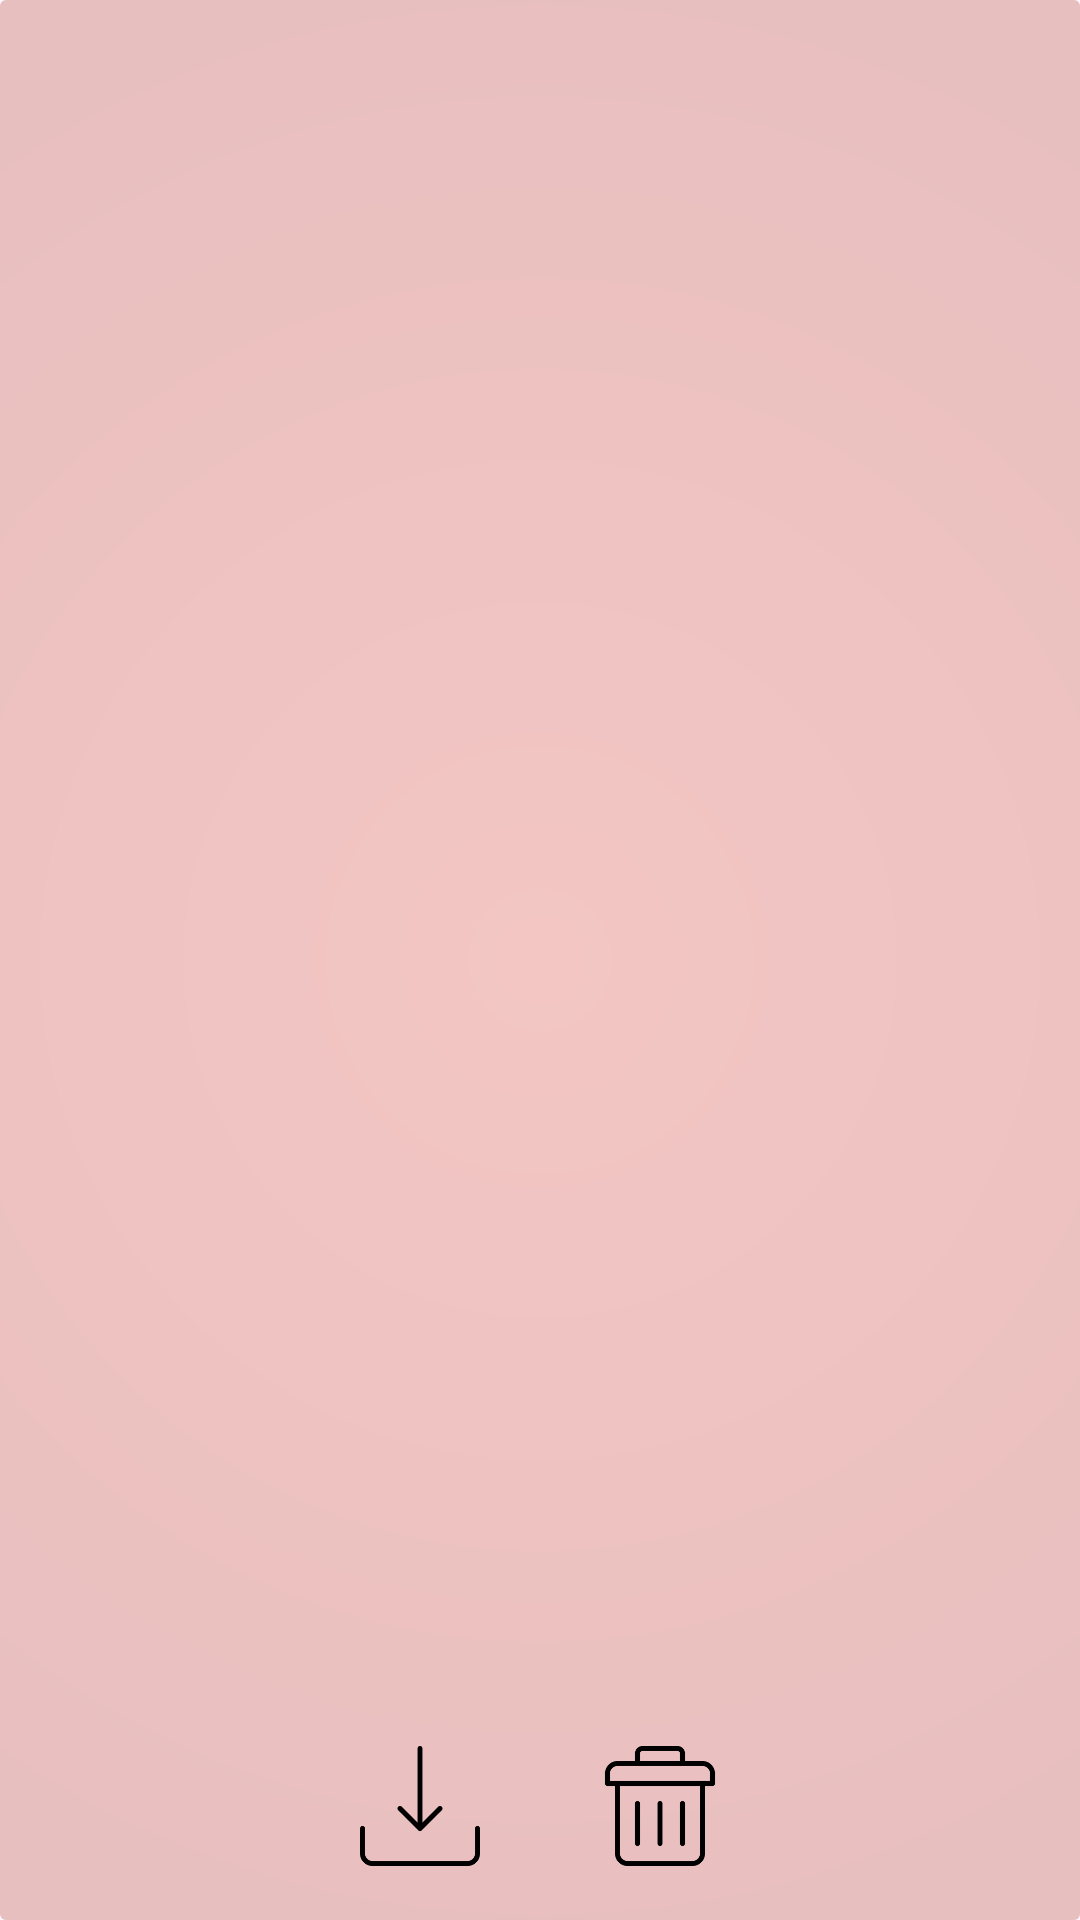

Where to tap for icons on this 1080 × 1920 app screen, as (x=x, y=y):
delete: (x=660, y=1806)
download: (x=420, y=1806)
